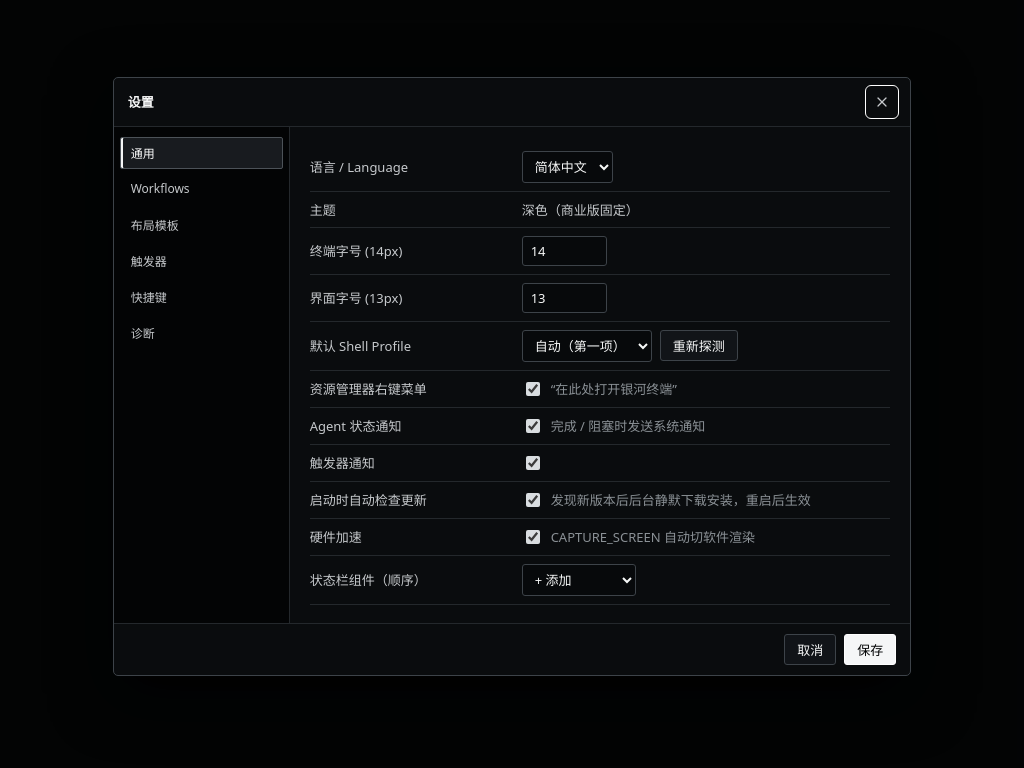
Scenario: settings appearance preview › does not enable Save for fractional appearance values
Replace the text in the number field in the row of "14" with "20.5". click: (564, 251)
box: [522,236,607,266]
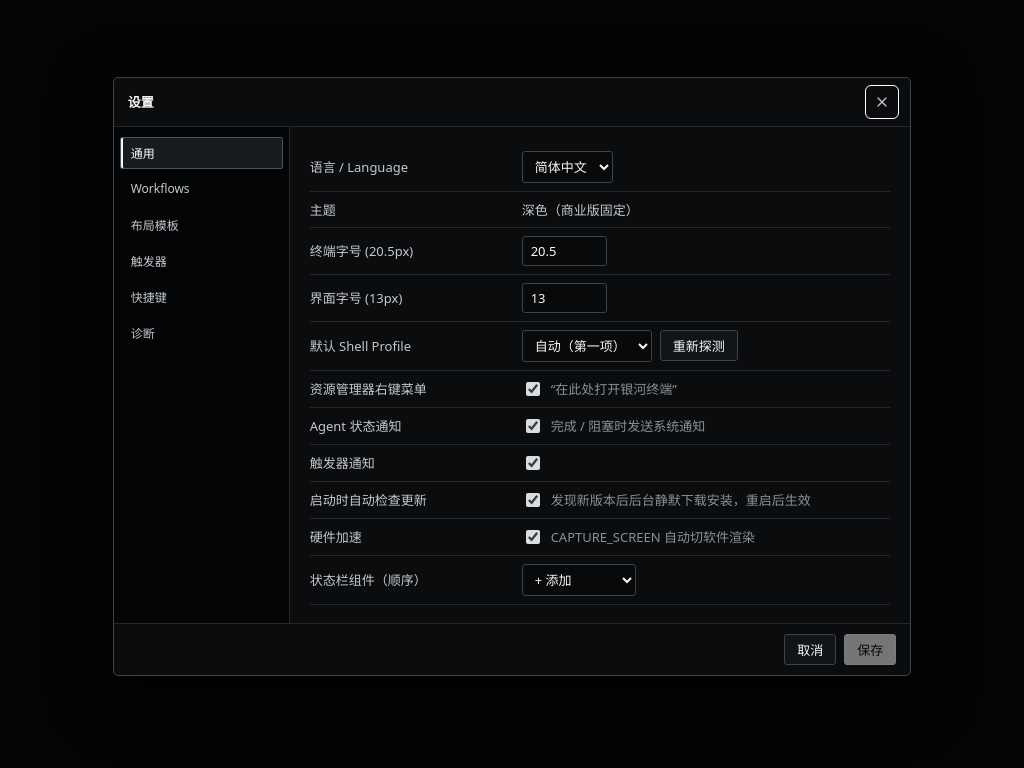
Result: the button "保存" is disabled at [844,634,896,665]
